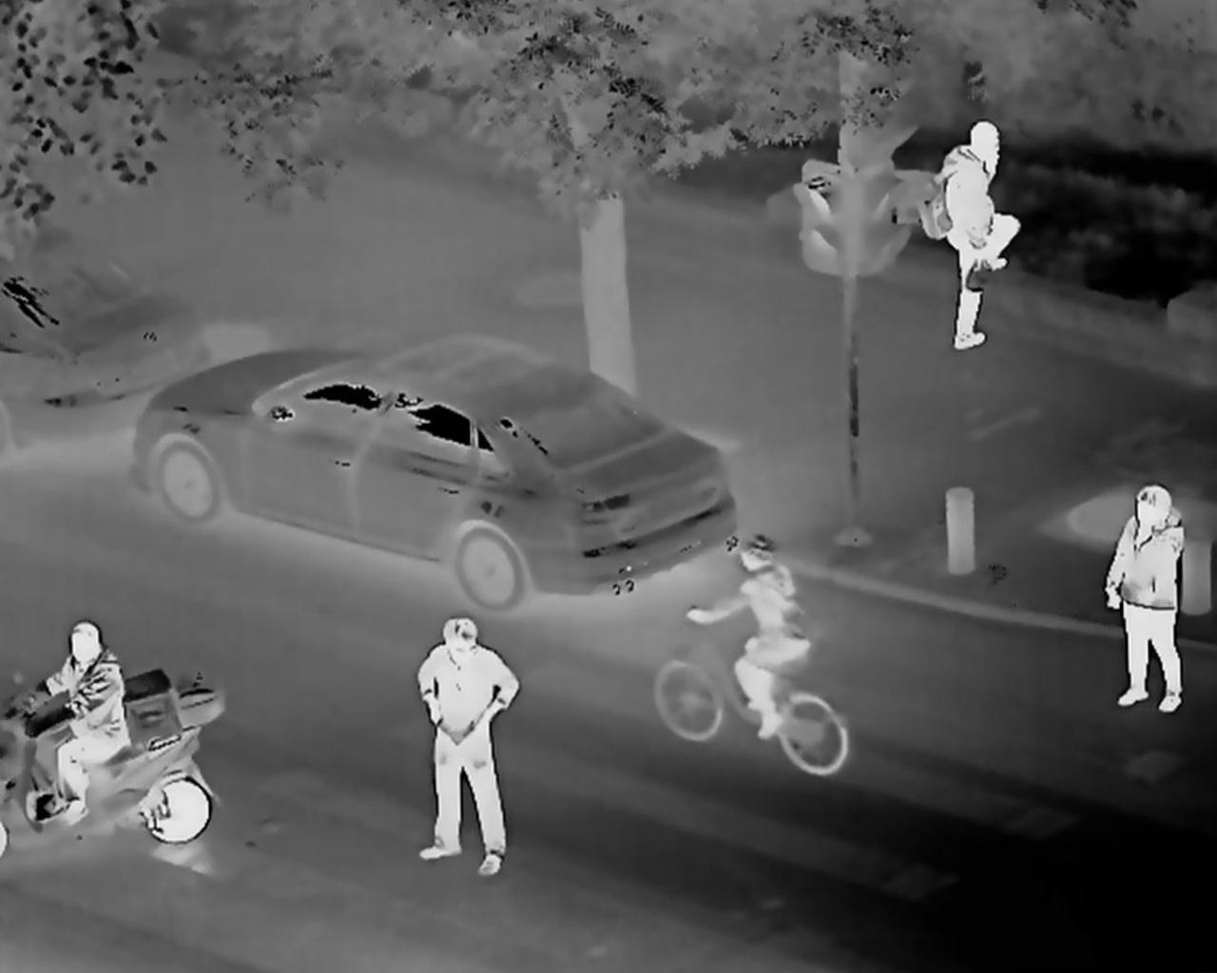person: (410, 616, 529, 873), (687, 530, 820, 741), (11, 620, 134, 821), (925, 117, 1028, 352), (1092, 484, 1193, 722)
